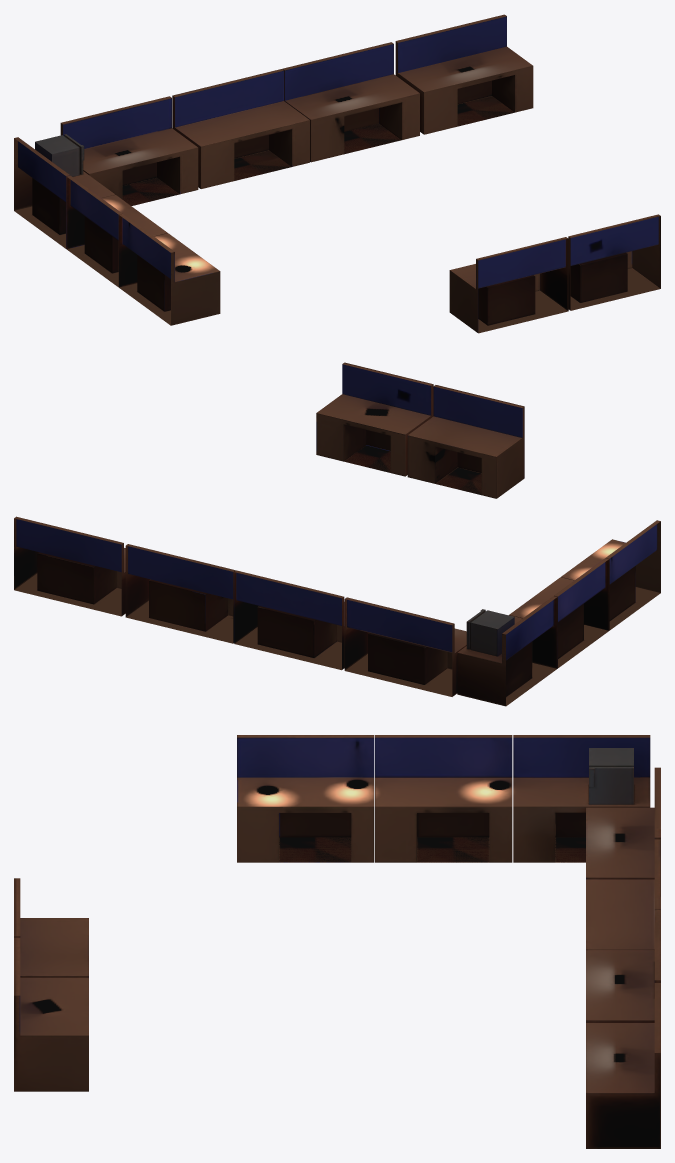
Rendered from tables_other.glb.
3 views of the same model, one above another, from view 1: azimuth 30°, elevation 25°; view 2: azimuth 150°, elevation 25°; view 3: azimuth 270°, elevation 25° (orthographic). The views are drawn at different scales.
Visible parts, largest first — view 1: Cube.002; view 2: Cube.002; view 3: Cube.002.
Part boxes in pixels (x1,y1,x2,y2): Cube.002: (14, 14, 660, 333); Cube.002: (14, 362, 660, 706); Cube.002: (14, 735, 660, 1148).
Bounding box in the file's own units: 13.42 × 1.89 × 11.54.
Materials: 1 (1 with a texture image).
